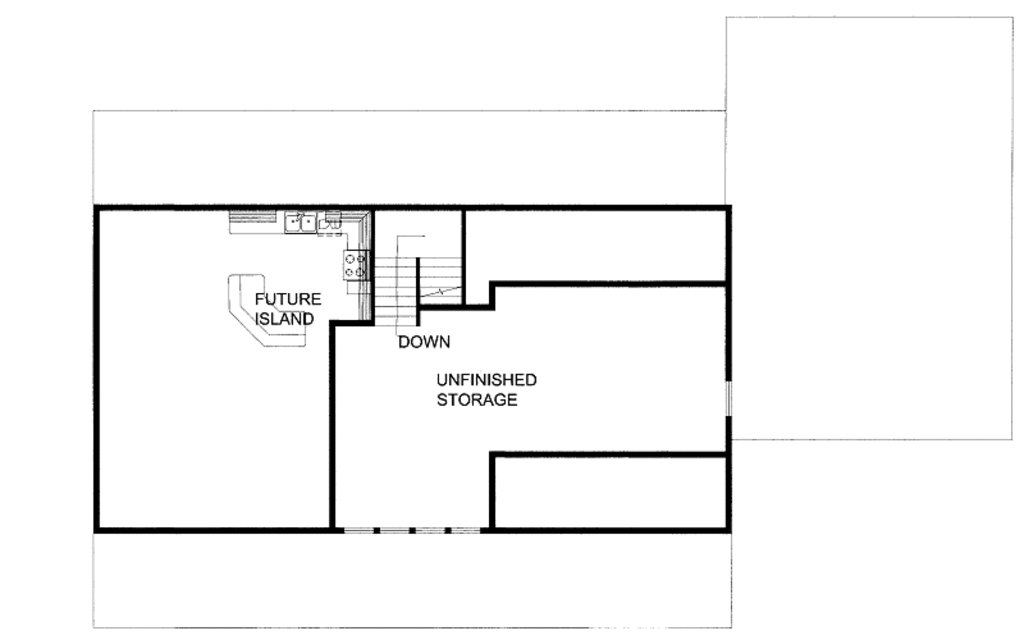stairs: (367, 212, 469, 345)
twin_sink: (283, 201, 321, 240)
window: (347, 522, 381, 539), (451, 521, 484, 537), (381, 521, 413, 537), (721, 382, 735, 417), (416, 525, 448, 534)
